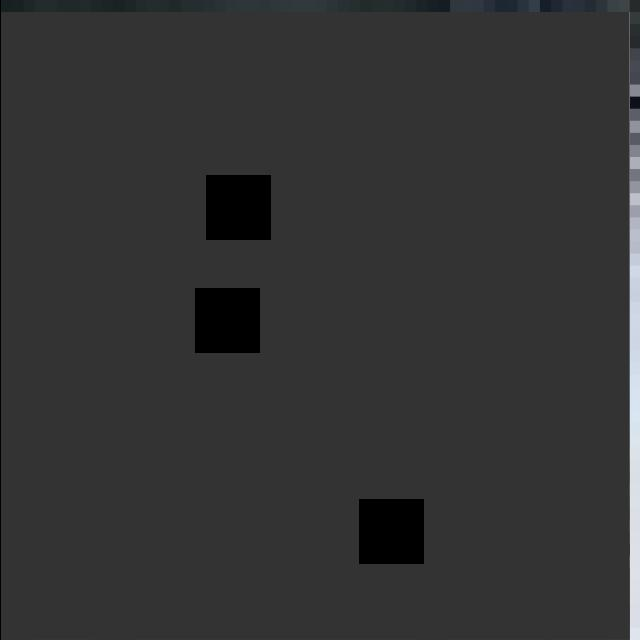smoke: (0, 12, 629, 640)
